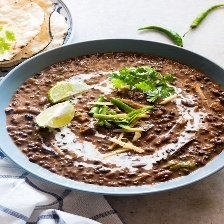sabzi: (4, 50, 224, 188)
